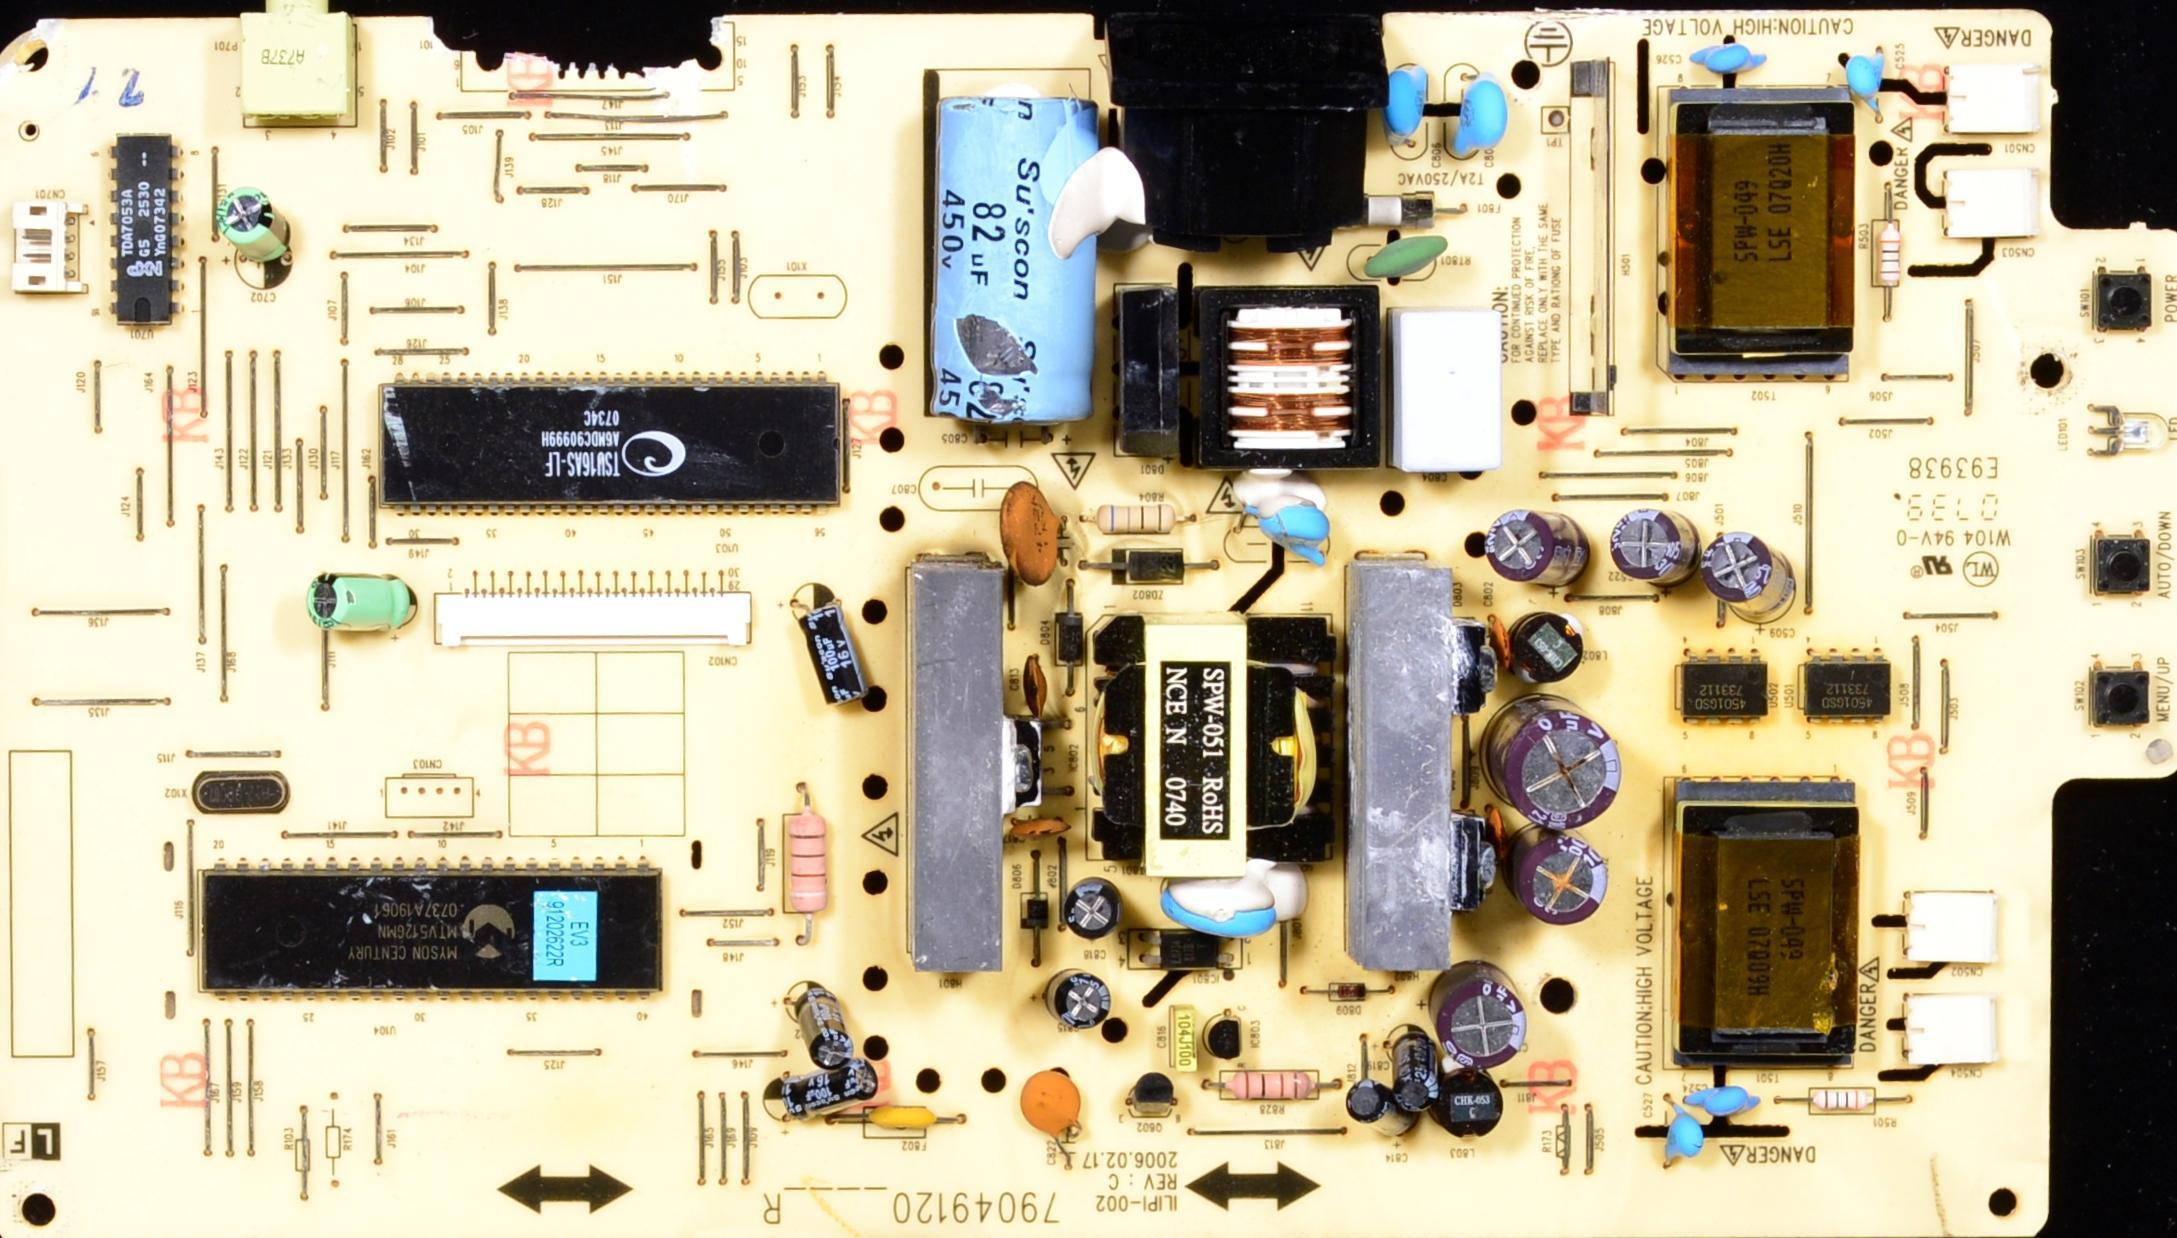Capacitor: (1430, 968, 1525, 1061), (791, 589, 867, 702), (1487, 510, 1595, 589), (1605, 503, 1698, 586), (1708, 537, 1803, 618), (1510, 834, 1600, 920), (310, 563, 414, 632), (787, 981, 852, 1074), (1236, 500, 1335, 561), (216, 192, 293, 264), (1161, 881, 1268, 931), (769, 1063, 878, 1110), (1459, 76, 1510, 160), (1049, 966, 1110, 1028), (1349, 1082, 1409, 1139), (1393, 1034, 1437, 1110), (1392, 62, 1425, 150), (1067, 881, 1118, 937), (1846, 47, 1888, 114), (1665, 1096, 1700, 1174), (1695, 39, 1765, 78), (1685, 1084, 1760, 1118), (1171, 1004, 1197, 1075)
Connector: (432, 574, 755, 652), (14, 200, 89, 294), (1945, 66, 2036, 137), (1945, 171, 2036, 238)
IC: (376, 372, 850, 516), (201, 861, 666, 1005), (108, 134, 184, 325), (1803, 654, 1891, 723), (1681, 656, 1768, 723)
Resistor: (783, 814, 828, 917), (1782, 1084, 1887, 1117), (1098, 498, 1176, 535), (1222, 1071, 1320, 1100), (1871, 220, 1900, 285)
Transistor: (932, 90, 1102, 427)
